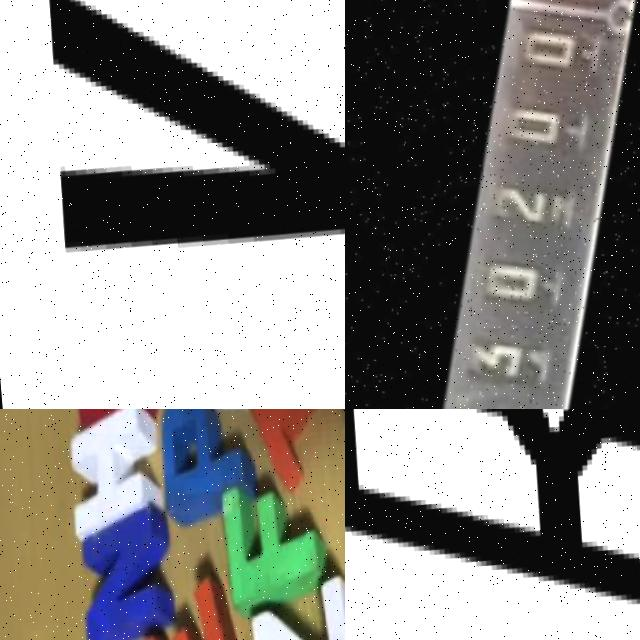0: (493, 109, 559, 161), (510, 34, 576, 86), (467, 262, 529, 314)
2: (477, 184, 539, 233)
3: (450, 340, 517, 394)
B: (345, 409, 640, 616)
E: (123, 572, 233, 640)
F: (211, 485, 326, 612)
H: (57, 409, 162, 555)
I: (232, 409, 345, 483)
N: (71, 509, 176, 640)
P: (155, 409, 250, 535)
Y: (24, 0, 345, 339)
Z: (240, 584, 345, 640)
